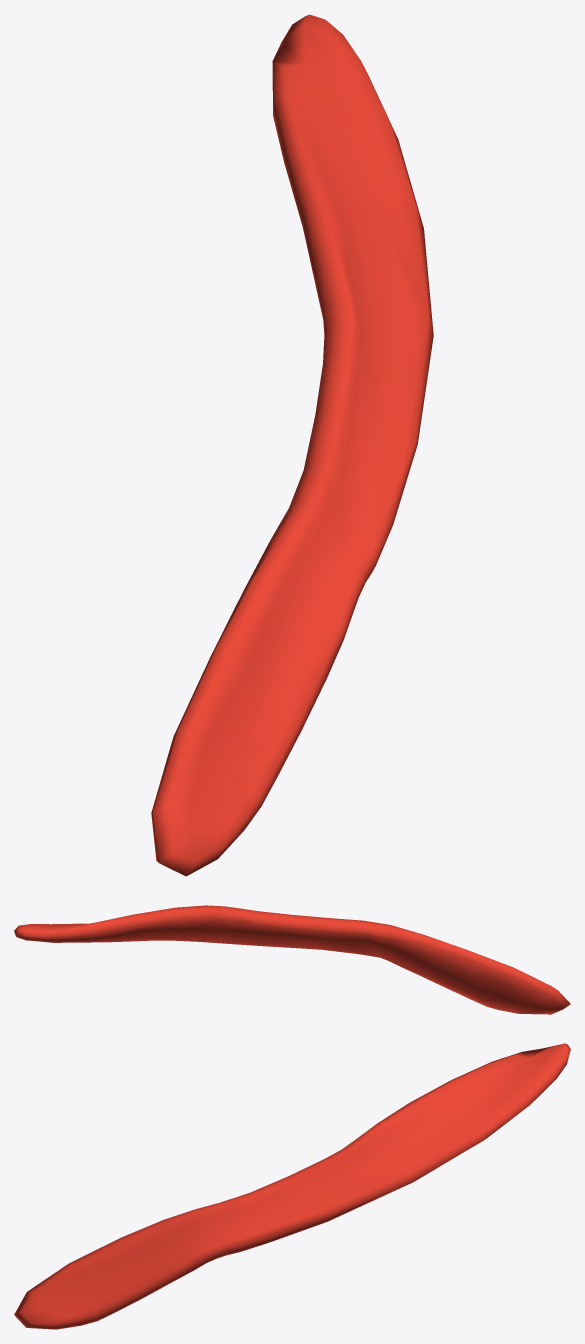
Rendered from Thyrohyoid_hyoid_bone_left.glb.
3 renders of one model, top to bottom at view 1: azimuth 30°, elevation 25°; view 2: azimuth 150°, elevation 25°; view 3: azimuth 330°, elevation 25°, orthographic. The views are drawn at different scales.
Parts seen in each view (by area): view 1: Thyrohyoid_muscle_on_hyoid_bone.l_Generated_Mesh_From_X3D.76; view 2: Thyrohyoid_muscle_on_hyoid_bone.l_Generated_Mesh_From_X3D.76; view 3: Thyrohyoid_muscle_on_hyoid_bone.l_Generated_Mesh_From_X3D.76.
Boxes of the visible parts, box(x1,y1,x2,y2) form: Thyrohyoid_muscle_on_hyoid_bone.l_Generated_Mesh_From_X3D.76: box(151, 14, 433, 876); Thyrohyoid_muscle_on_hyoid_bone.l_Generated_Mesh_From_X3D.76: box(14, 905, 570, 1014); Thyrohyoid_muscle_on_hyoid_bone.l_Generated_Mesh_From_X3D.76: box(14, 1043, 570, 1329).
Bounding box in the file's own units: 0.00978 × 0.00537 × 0.0126.
